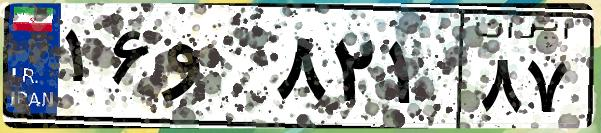1: (385, 28, 445, 110), (57, 26, 110, 100)
2: (330, 28, 385, 110)
6: (110, 28, 158, 98)
7: (525, 38, 570, 115)
8: (270, 28, 330, 110), (475, 38, 525, 113)
و: (158, 20, 270, 120)
